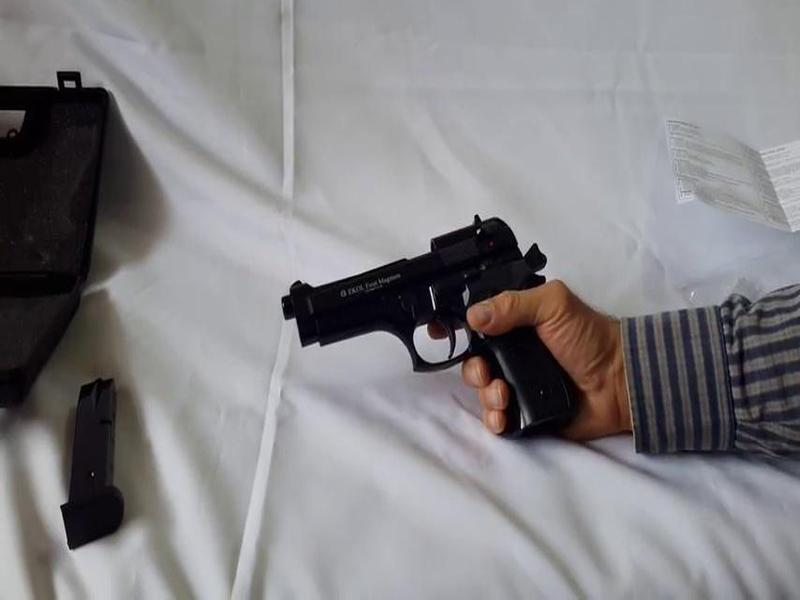Pistola: (284, 204, 592, 450)
